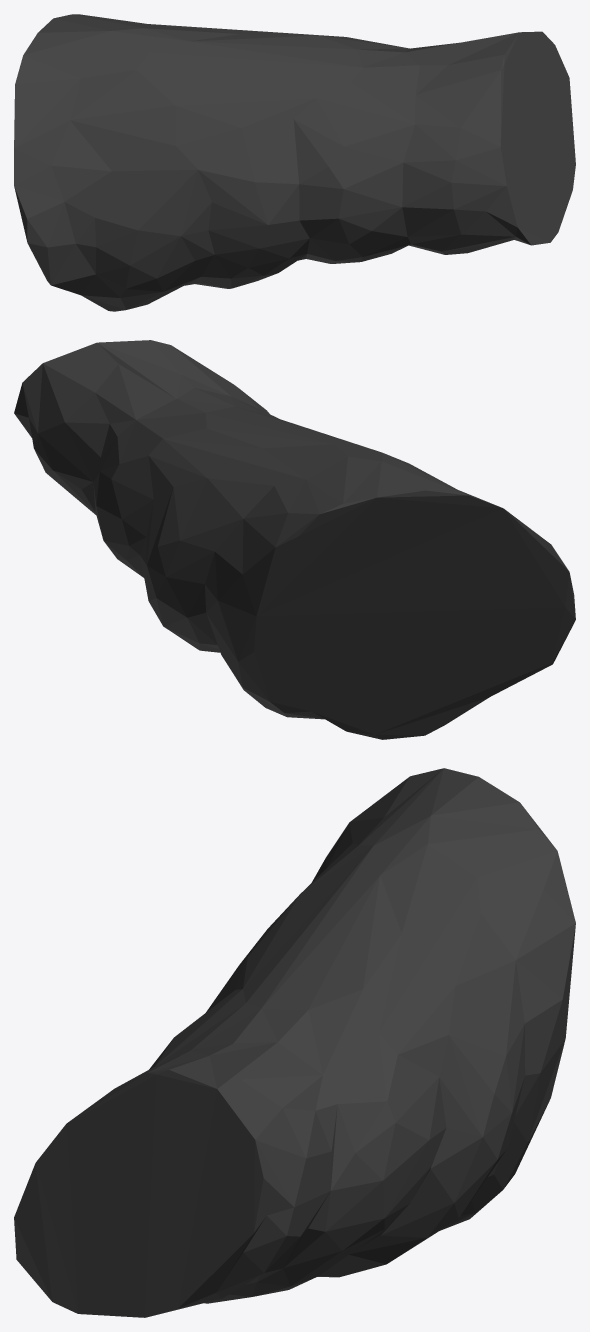
File: Left_principal_bronchus_1.glb
The picture shows the model from 3 angles, top to bottom: view 1: azimuth 30°, elevation 25°; view 2: azimuth 150°, elevation 25°; view 3: azimuth 270°, elevation 25°; orthographic projection. The views are drawn at different scales.
Visible parts, largest first — view 1: Left_principal_bronchus_1; view 2: Left_principal_bronchus_1; view 3: Left_principal_bronchus_1.
Part boxes in pixels (box(x1,y1,x2,y2)): Left_principal_bronchus_1: box(14, 14, 575, 311); Left_principal_bronchus_1: box(14, 340, 575, 739); Left_principal_bronchus_1: box(14, 768, 575, 1317).
Bounding box in the file's own units: 1.24 × 0.5907 × 0.7955.
1 material, 1 textured.
